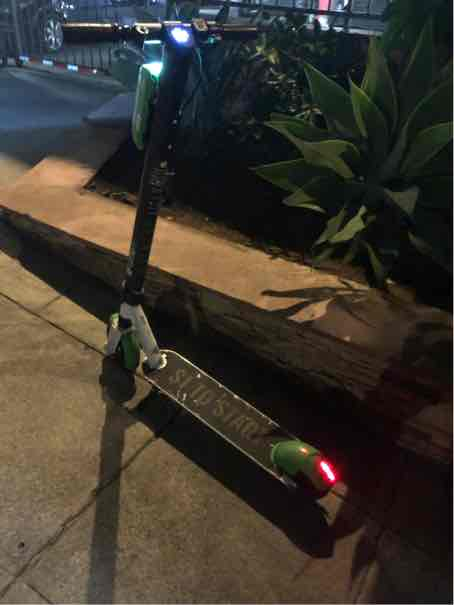scooter: (49, 10, 345, 515)
